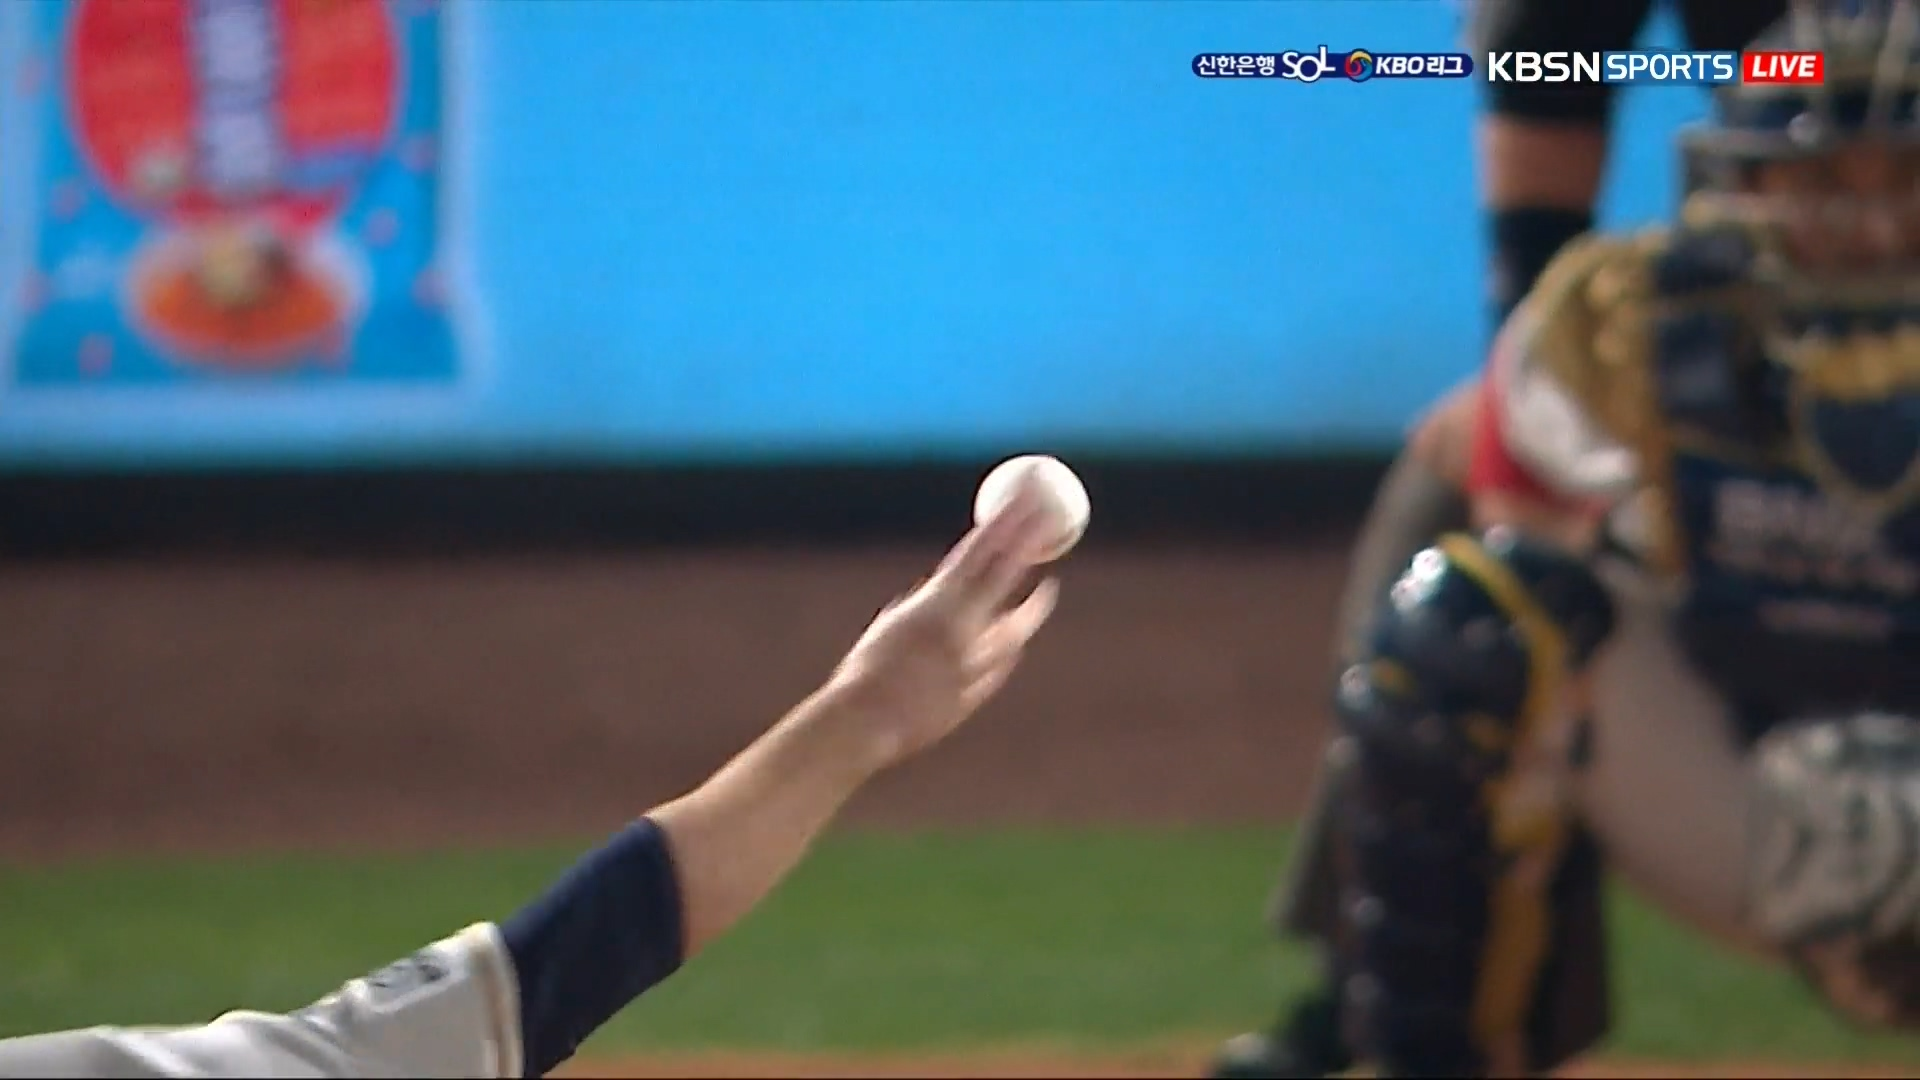zoomin_hand: (558, 422, 1125, 1040)
